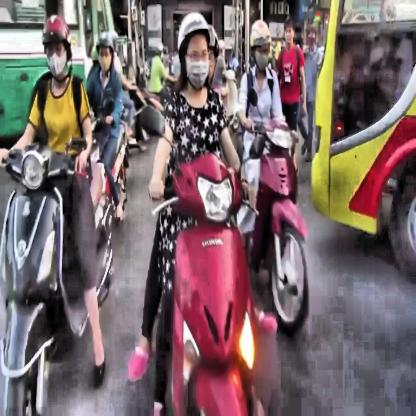not_wear: (284, 18, 295, 47), (307, 25, 318, 51)
wear: (177, 14, 211, 91), (42, 12, 74, 81), (249, 17, 272, 74), (94, 30, 115, 73)
